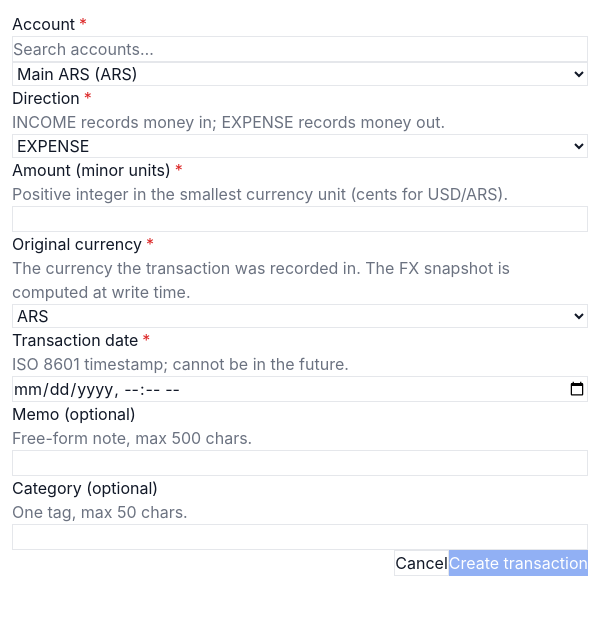
Test case: CreateTransactionForm — inline validation › surfaces an inline FieldError on transactionDate when the API returns FUTURE_DATE_NOT_ALLOWED
Select "Main ARS (ARS)" in the dropdown with id "account-search-select" at (300, 74), box [12,62,588,86]
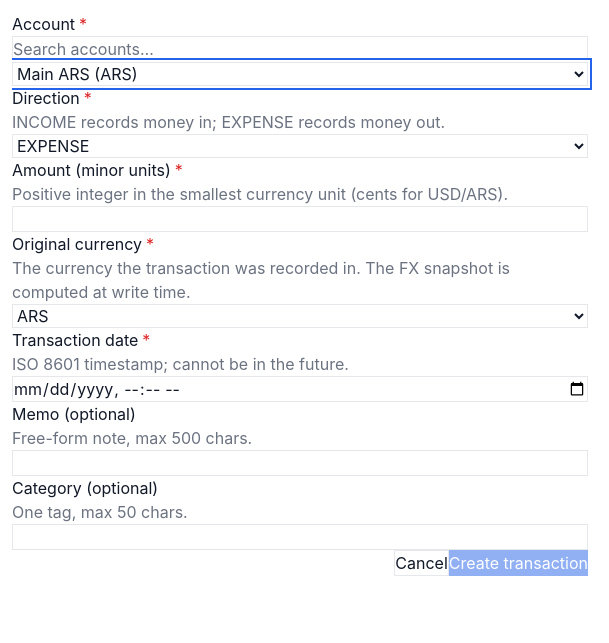
Select "INCOME" in the dropdown labelled "Direction*" at (300, 146), box [12,134,588,158]
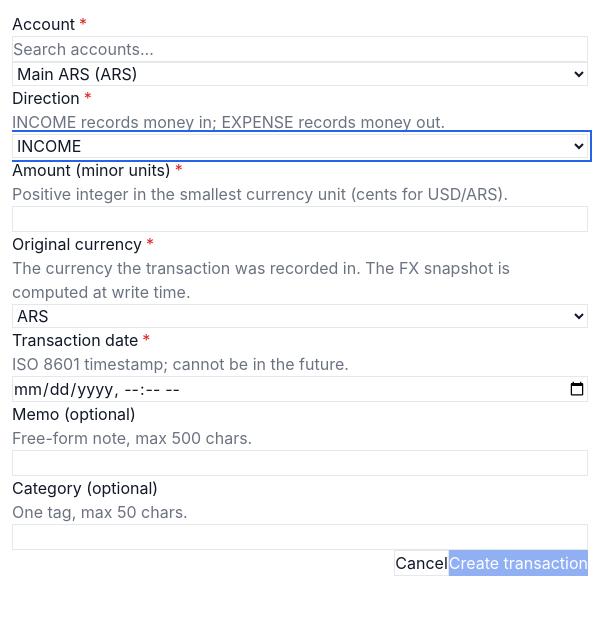
Type "1000" into the number field labelled "Amount (minor units)*" at (300, 219), box [12,206,588,232]
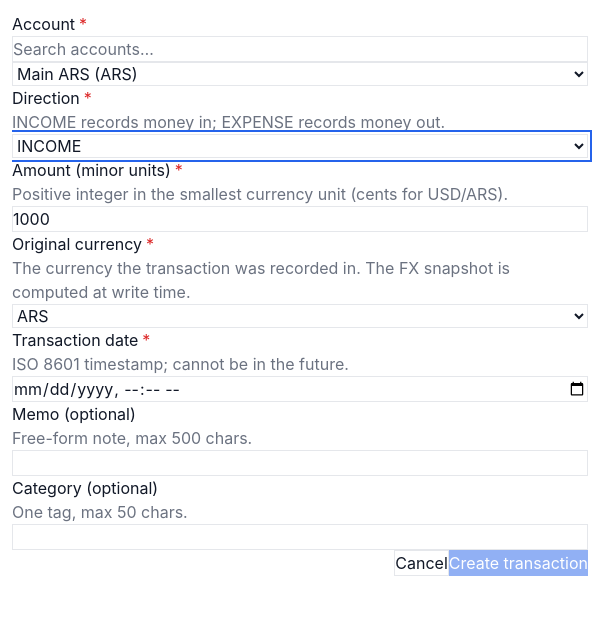
Select "ARS" in the dropdown labelled "Original currency*" at (300, 316), box [12,304,588,328]
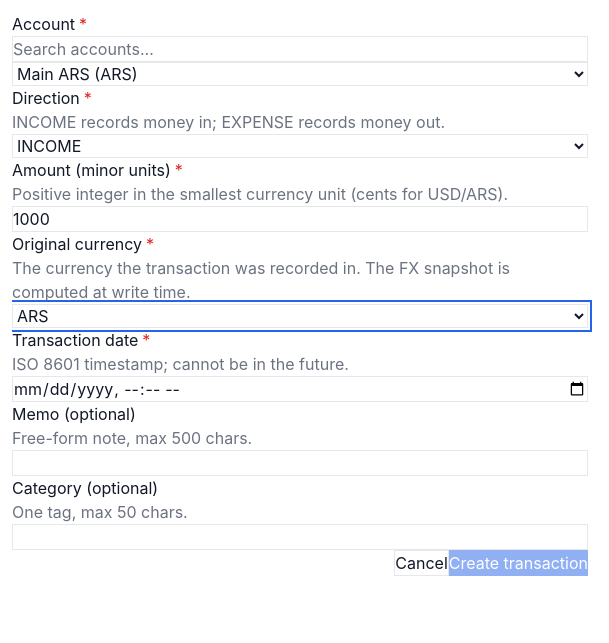
Type "2099-01-01T08:00" into the field labelled "Transaction date*" at (300, 389), box [12,376,588,402]
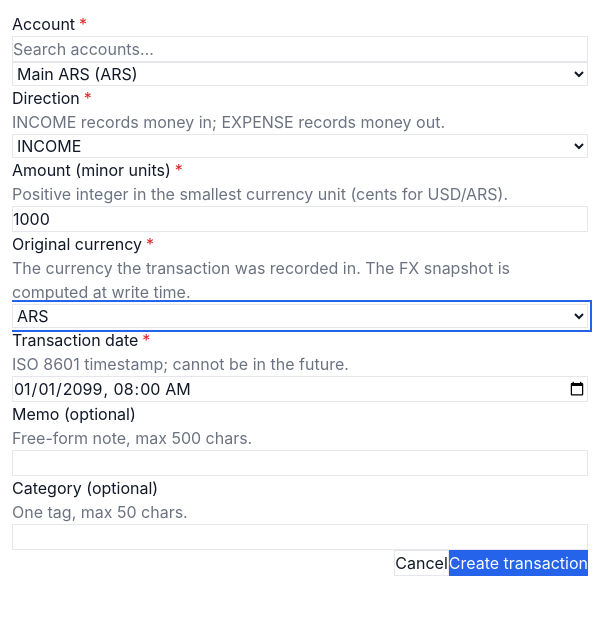
Click the button "Create transaction" at (518, 563), box [449,550,588,576]
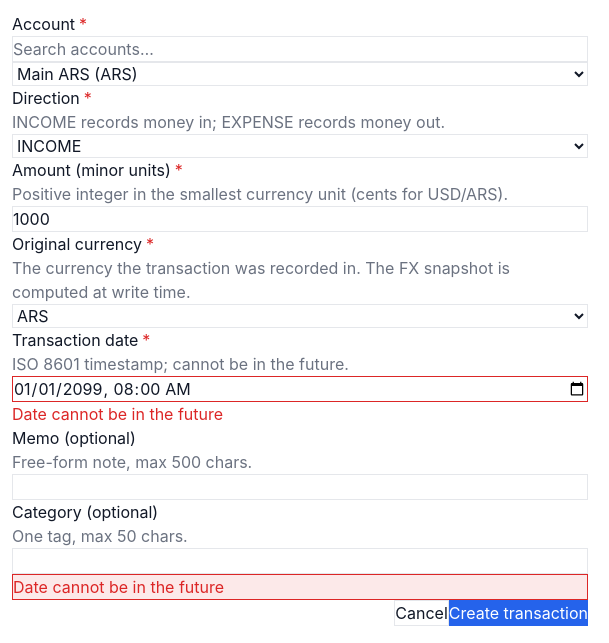
expect the message with id "transactionDate-error" shows "cannot be in the future": met, box [12,404,223,424]
